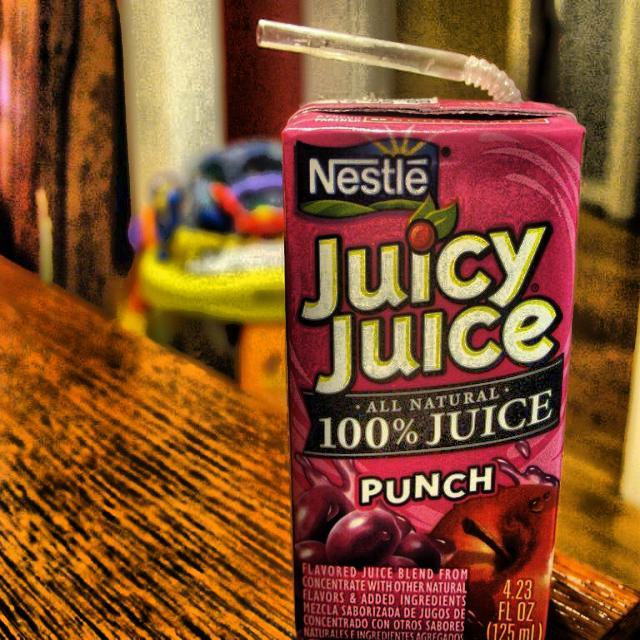cardboard: (279, 97, 584, 638)
